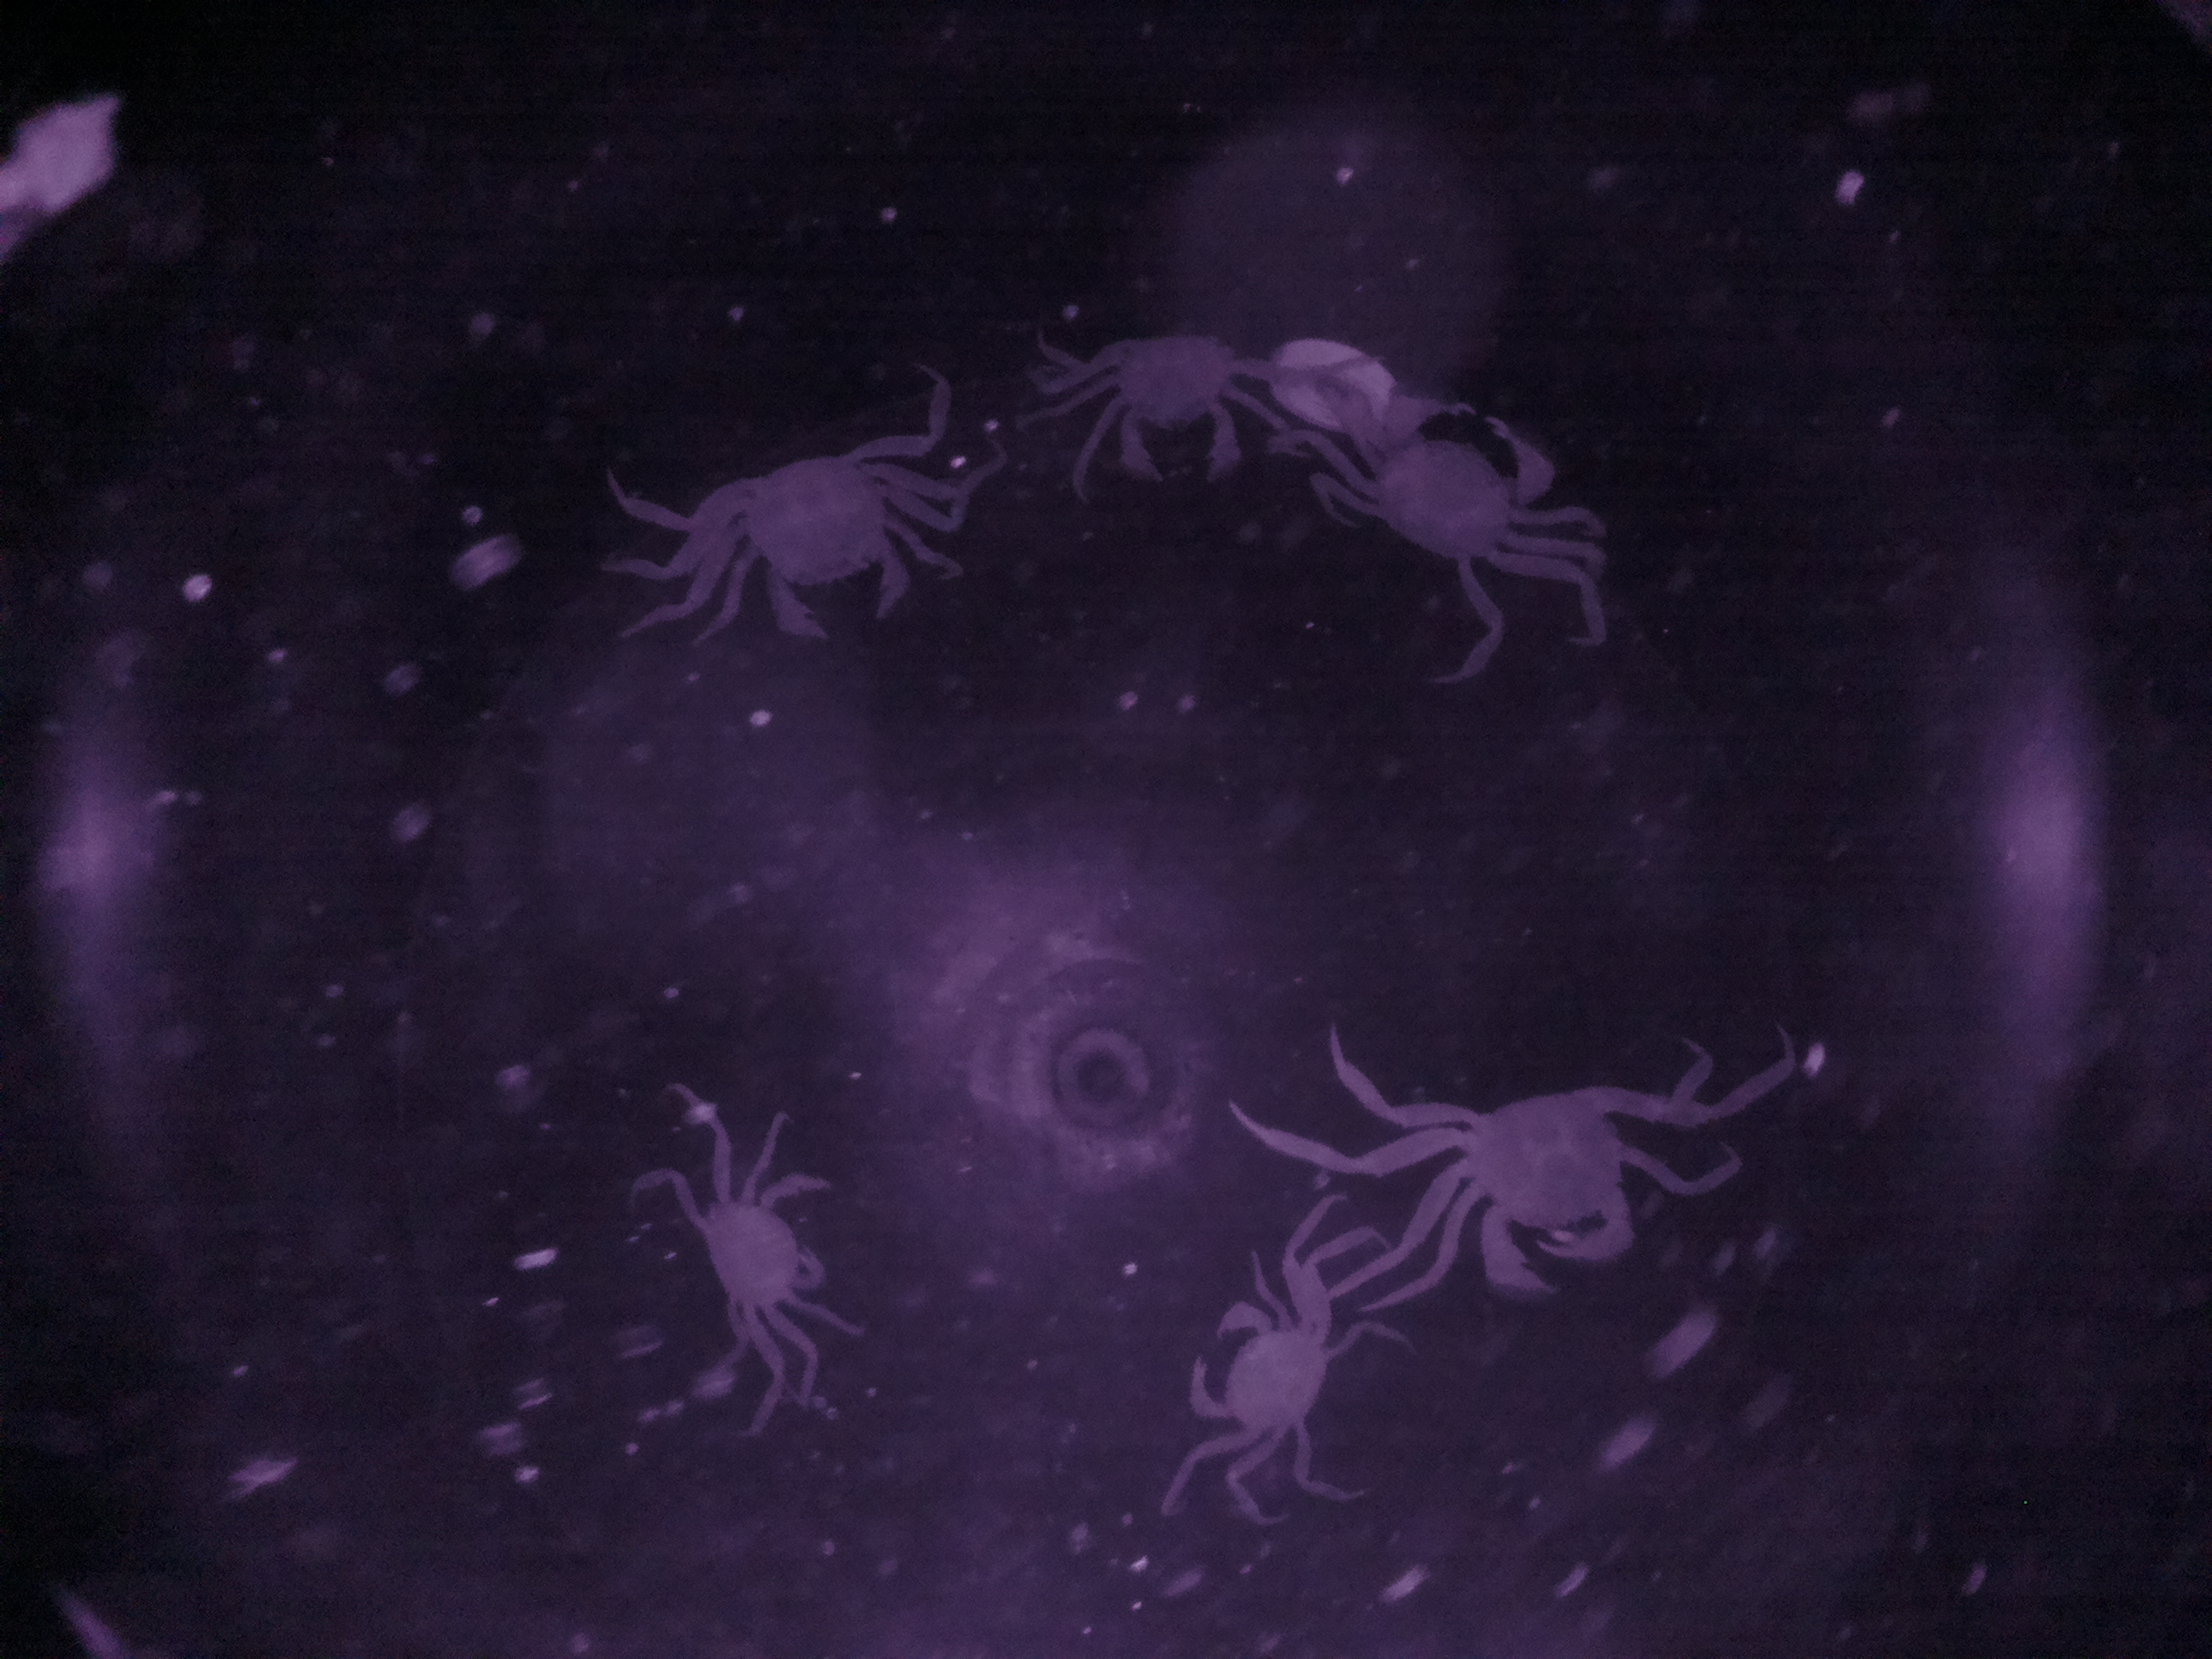Crab: (1367, 1060, 1721, 1303), (676, 415, 951, 673), (1306, 364, 1588, 579), (1153, 1244, 1378, 1506), (667, 1154, 866, 1361)
